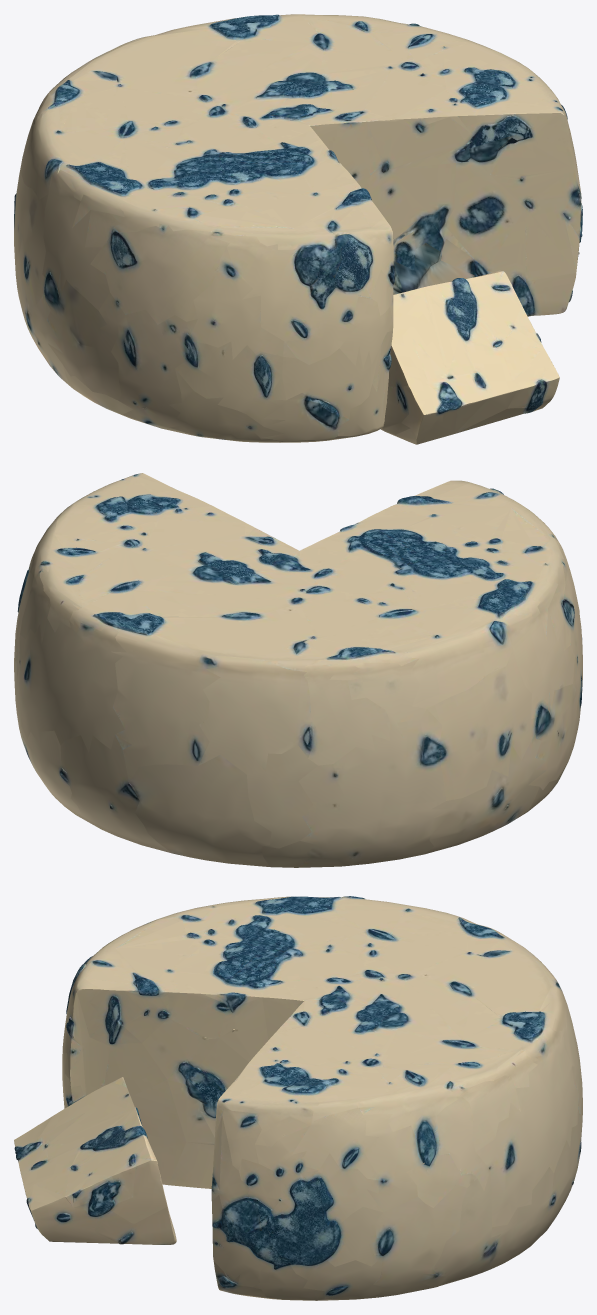
File: stilton.glb
3 renders of one model, top to bottom at view 1: azimuth 30°, elevation 25°; view 2: azimuth 150°, elevation 25°; view 3: azimuth 270°, elevation 25°, orthographic. The views are drawn at different scales.
Size of the model in its own units: 1.83 by 0.7361 by 1.9.
1 material, 1 textured.
